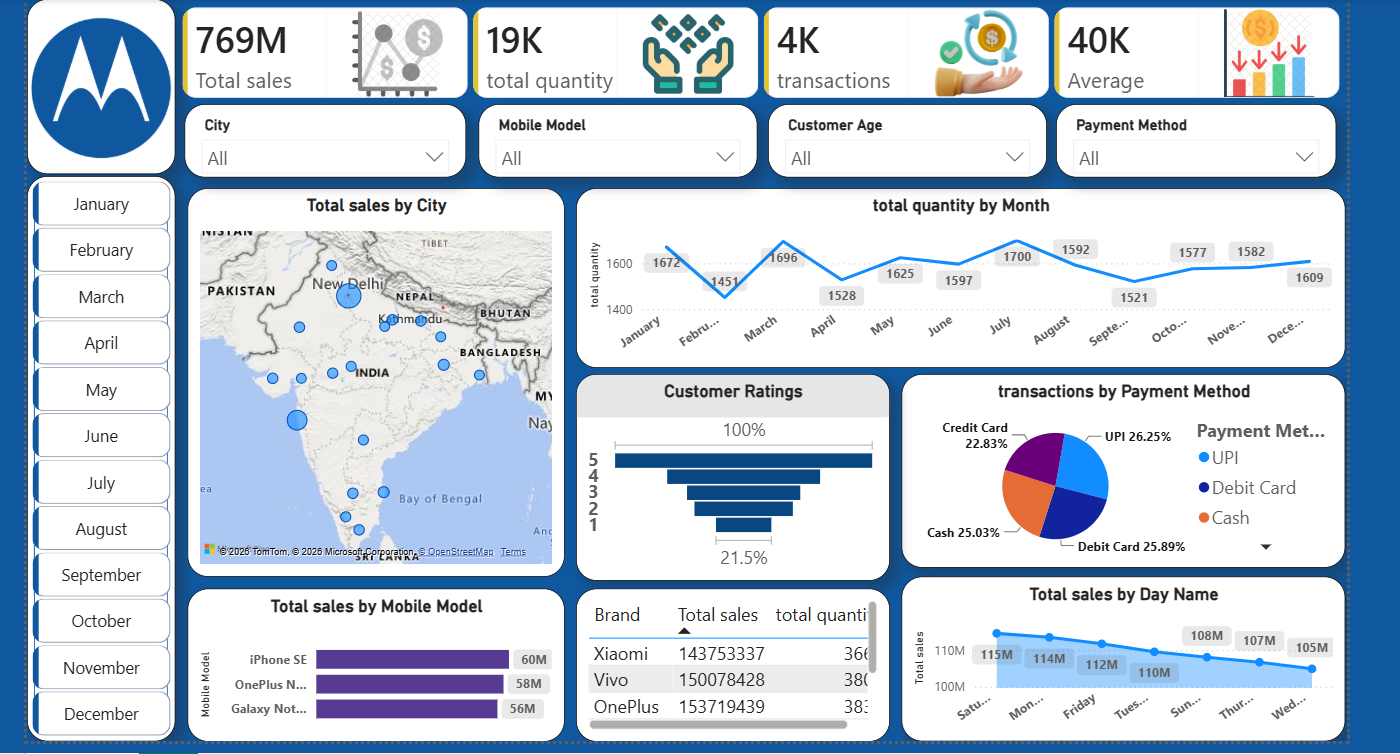

The page's visual inventory and layout, read from the dashboard file:
{"tool":"powerbi","page":{"name":"Page 1","canvas":[1280,720],"ordinal":0},"visuals":[{"type":"shape","box":[0,0,144.1,170],"z":0},{"type":"image","box":[0,1.6,144.1,170],"z":1000},{"type":"shape","box":[0,171.6,144.1,548.9],"z":2000},{"type":"advancedSlicerVisual","fields":{"Values":["Sales_Data.Date.Variation.Date Hierarchy.Month"]},"box":[0,171.6,144.1,548.9],"z":3000},{"type":"cardVisual","fields":{"Data":["Sales_Data.Total sales","Sales_Data.total quantity","Sales_Data.transactions","Sales_Data.Average"]},"box":[145.7,0,1135.1,115],"z":4000},{"type":"map","fields":{"Category":["Sales_Data.City"],"Size":["Sales_Data.Total sales"]},"box":[155.4,183,365.9,377.3],"z":5000},{"type":"lineChart","fields":{"Category":["Sales_Data.Date.Variation.Date Hierarchy.Month","Sales_Data.Date.Variation.Date Hierarchy.Day"],"Y":["Sales_Data.total quantity"]},"box":[532.7,183,746.5,174.9],"z":6000},{"type":"clusteredBarChart","fields":{"Category":["Sales_Data.Mobile Model"],"Y":["Sales_Data.Total sales"]},"box":[155.4,571.6,365.9,149],"z":7000},{"type":"pieChart","fields":{"Category":["Sales_Data.Payment Method"],"Y":["Sales_Data.transactions"]},"box":[848.5,364.3,430.7,187.8],"z":8000},{"type":"funnel","title":"Customer Ratings","fields":{"Category":["Sales_Data.Customer Ratings"],"Y":["CountNonNull(Sales_Data.Customer Ratings)"]},"box":[532.7,364.3,304.4,200.8],"z":9000},{"type":"areaChart","fields":{"Category":["Sales_Data.Day Name"],"Y":["Sales_Data.Total sales"]},"box":[848.5,560.3,430.7,160.3],"z":10000},{"type":"tableEx","fields":{"Values":["Sales_Data.Brand","Sales_Data.Total sales","Sales_Data.total quantity"]},"box":[532.7,571.6,304.4,149],"z":11000},{"type":"slicer","fields":{"Values":["Sales_Data.City"]},"box":[152.2,102,273.6,71.2],"z":12000},{"type":"slicer","fields":{"Values":["Sales_Data.Mobile Model"]},"box":[438.8,102,270.4,71.2],"z":13000},{"type":"slicer","fields":{"Values":["Sales_Data.Customer Age"]},"box":[718.9,102,270.4,71.2],"z":14000},{"type":"slicer","fields":{"Values":["Sales_Data.Payment Method"]},"box":[999.1,102,272,71.2],"z":15000}]}

Visuals, with their boxes in screenshot pixels (x1, y1, x2, y2):
shape: bbox=[22, 0, 171, 172]
image: bbox=[22, 0, 171, 174]
shape: bbox=[22, 174, 171, 741]
advancedSlicerVisual - Sales_Data.Date.Variation.Date Hierarchy.Month: bbox=[22, 174, 171, 741]
cardVisual - Sales_Data.Total sales x Sales_Data.total quantity: bbox=[172, 0, 1346, 115]
map - Sales_Data.City x Sales_Data.Total sales: bbox=[183, 186, 561, 576]
lineChart - Sales_Data.Date.Variation.Date Hierarchy.Month x Sales_Data.Date.Variation.Date Hierarchy.Day: bbox=[573, 186, 1344, 366]
clusteredBarChart - Sales_Data.Mobile Model x Sales_Data.Total sales: bbox=[183, 587, 561, 741]
pieChart - Sales_Data.Payment Method x Sales_Data.transactions: bbox=[899, 373, 1344, 567]
"Customer Ratings" funnel: bbox=[573, 373, 887, 580]
areaChart - Sales_Data.Day Name x Sales_Data.Total sales: bbox=[899, 576, 1344, 741]
tableEx - Sales_Data.Brand x Sales_Data.Total sales: bbox=[573, 587, 887, 741]
slicer - Sales_Data.City: bbox=[179, 102, 462, 175]
slicer - Sales_Data.Mobile Model: bbox=[475, 102, 755, 175]
slicer - Sales_Data.Customer Age: bbox=[765, 102, 1045, 175]
slicer - Sales_Data.Payment Method: bbox=[1055, 102, 1336, 175]
